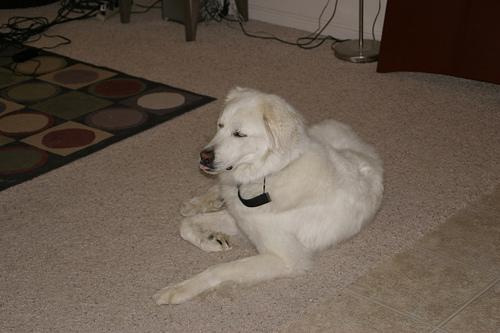dog-great_pyrenees: (198, 86, 301, 173)
